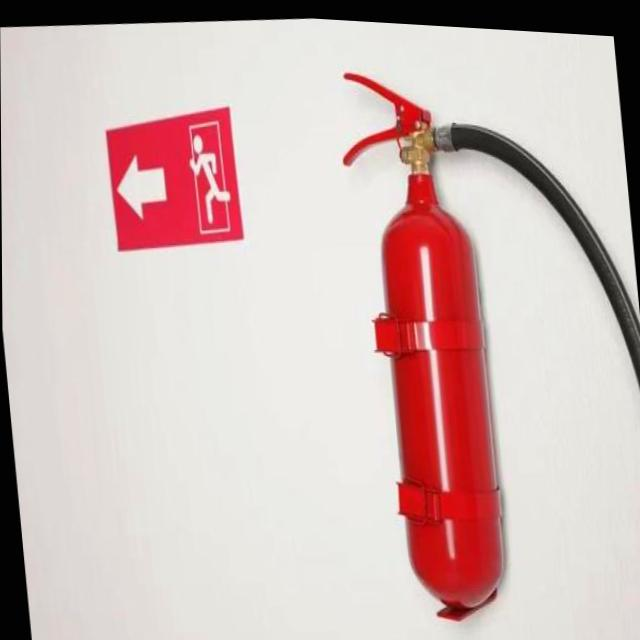FireExtinguisher: (326, 35, 640, 640)
